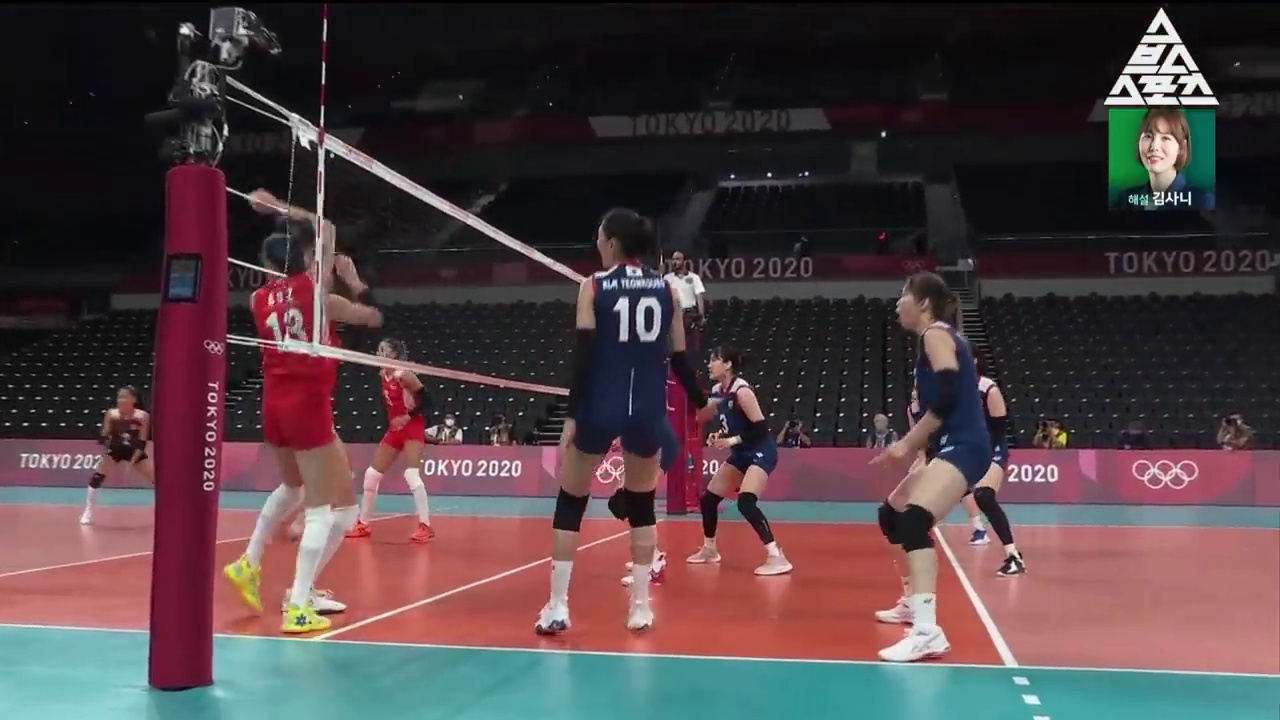player: (536, 208, 724, 635), (868, 274, 994, 661), (687, 346, 792, 575)
player 1: (225, 190, 336, 634), (351, 295, 464, 568), (82, 385, 183, 526)
referee: (663, 251, 707, 380)
